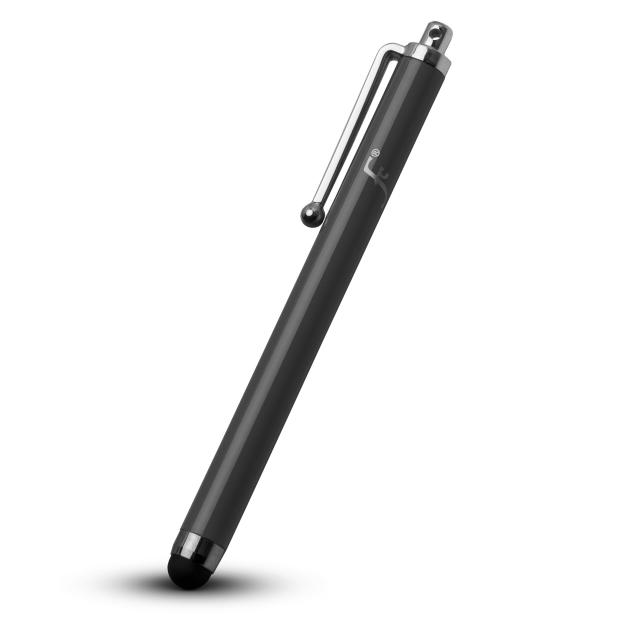pen: (165, 20, 453, 585)
